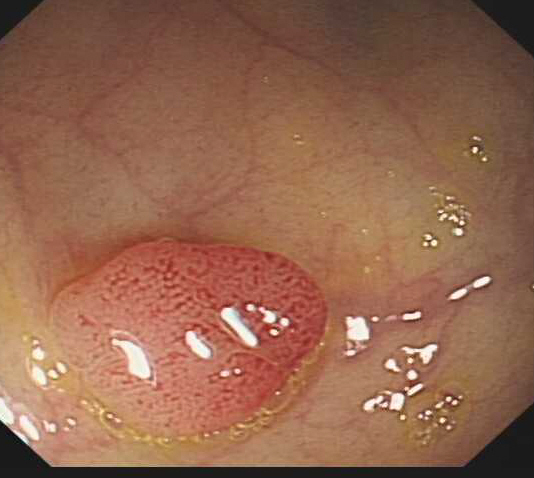adenoma: (48, 234, 330, 443)
